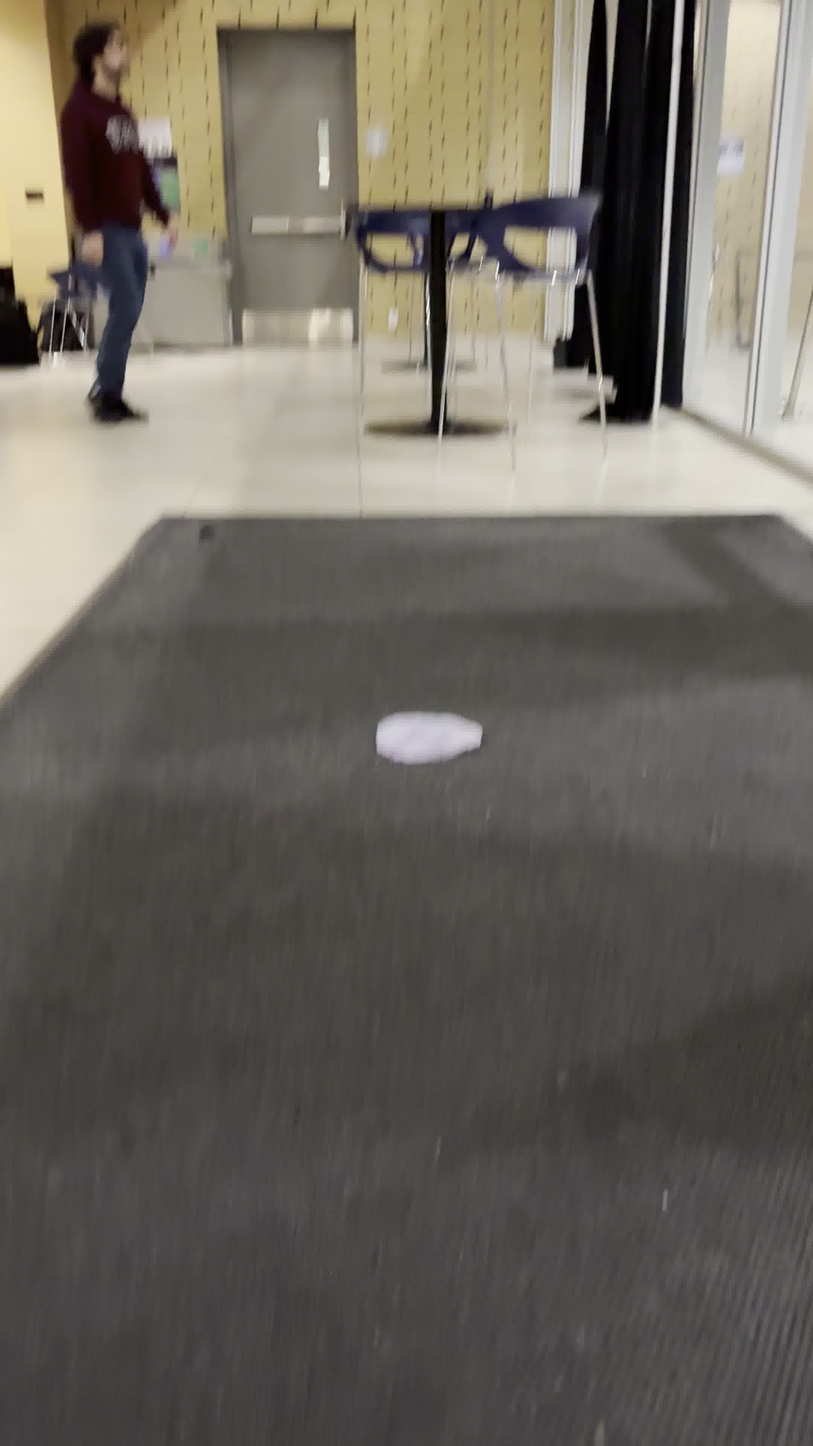Target: (368, 702, 489, 769)
